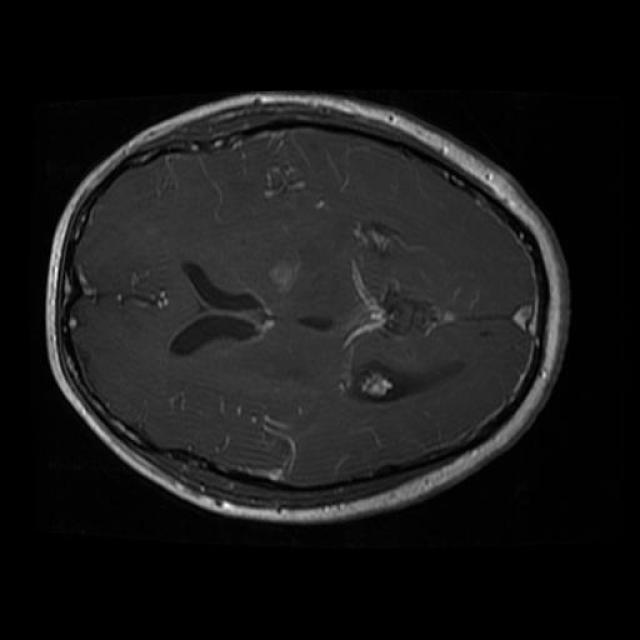Glioma: (269, 260, 301, 295)
